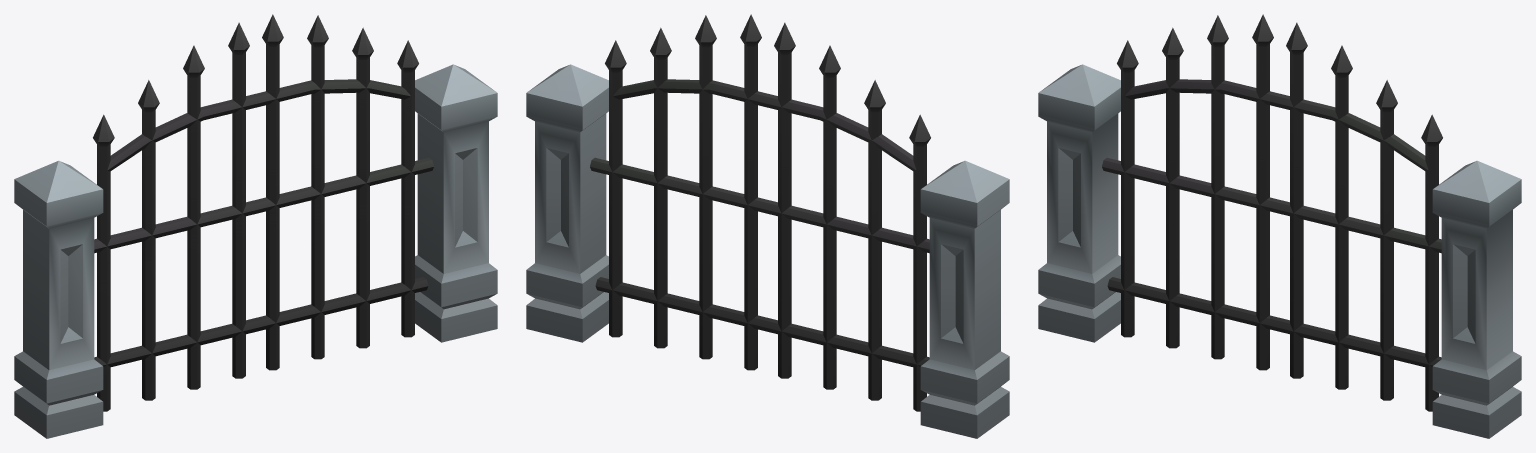
The model's file is gate.glb.
The picture shows the model from 3 angles, left to right: view 1: azimuth 30°, elevation 25°; view 2: azimuth 150°, elevation 25°; view 3: azimuth 330°, elevation 25°; orthographic projection.
Visible parts, largest first — view 1: fence_gate; view 2: fence_gate; view 3: fence_gate.
Boxes of the visible parts, x1=… form: fence_gate: x1=14, y1=14, x2=497, y2=438; fence_gate: x1=526, y1=14, x2=1009, y2=438; fence_gate: x1=1038, y1=14, x2=1521, y2=438.
Bounding box in the file's own units: 4 × 3 × 0.5.
Materials: 1 (1 with a texture image).
